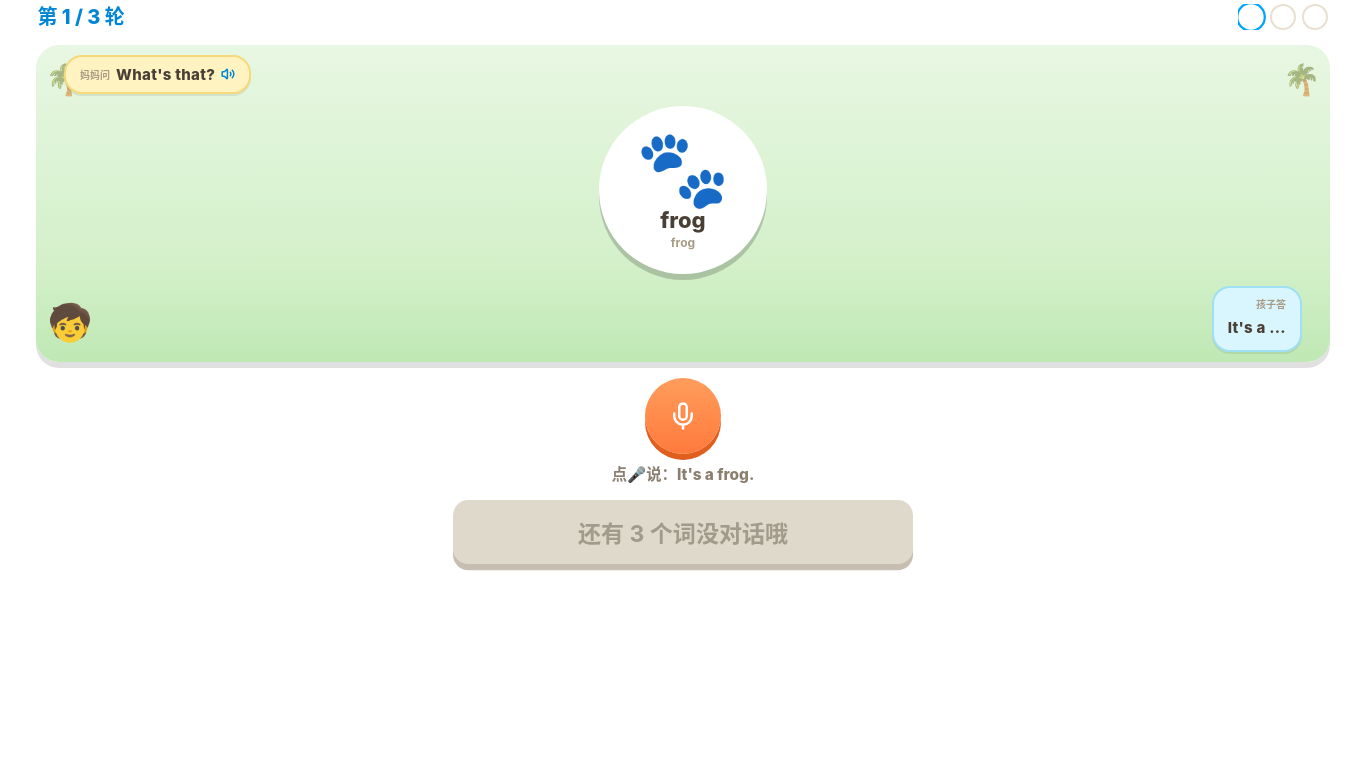
LearnStage dialog 亲子口语对话卡（l10）· 逐轮对话 + 录音 › 一轮录音通过后自动进入下一轮（下轮大图切换 + 自动播问句）
Click the button with class "mic-btn". click: coordinates (683, 416)
box: left=645, top=378, right=721, bottom=454
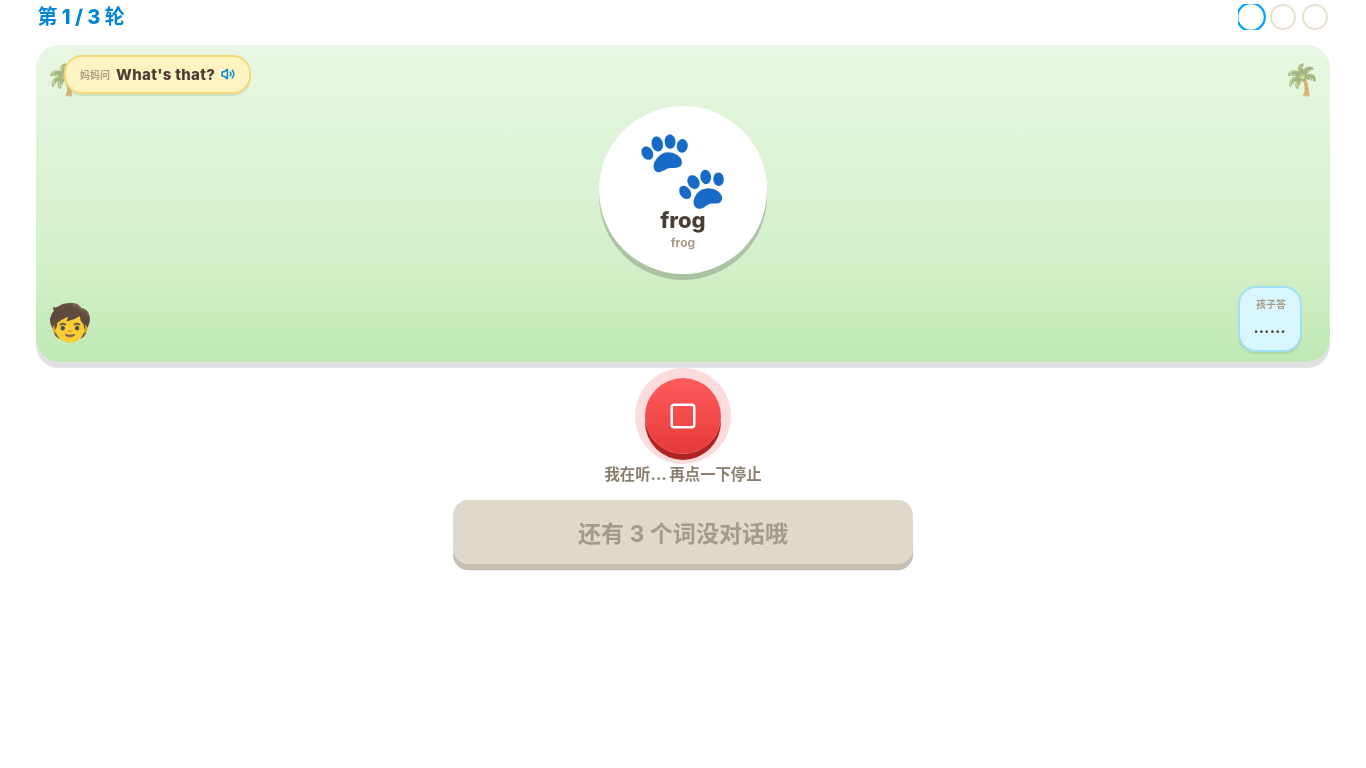
Click the button with class "mic-btn". click: coordinates (683, 416)
box: left=645, top=378, right=721, bottom=454
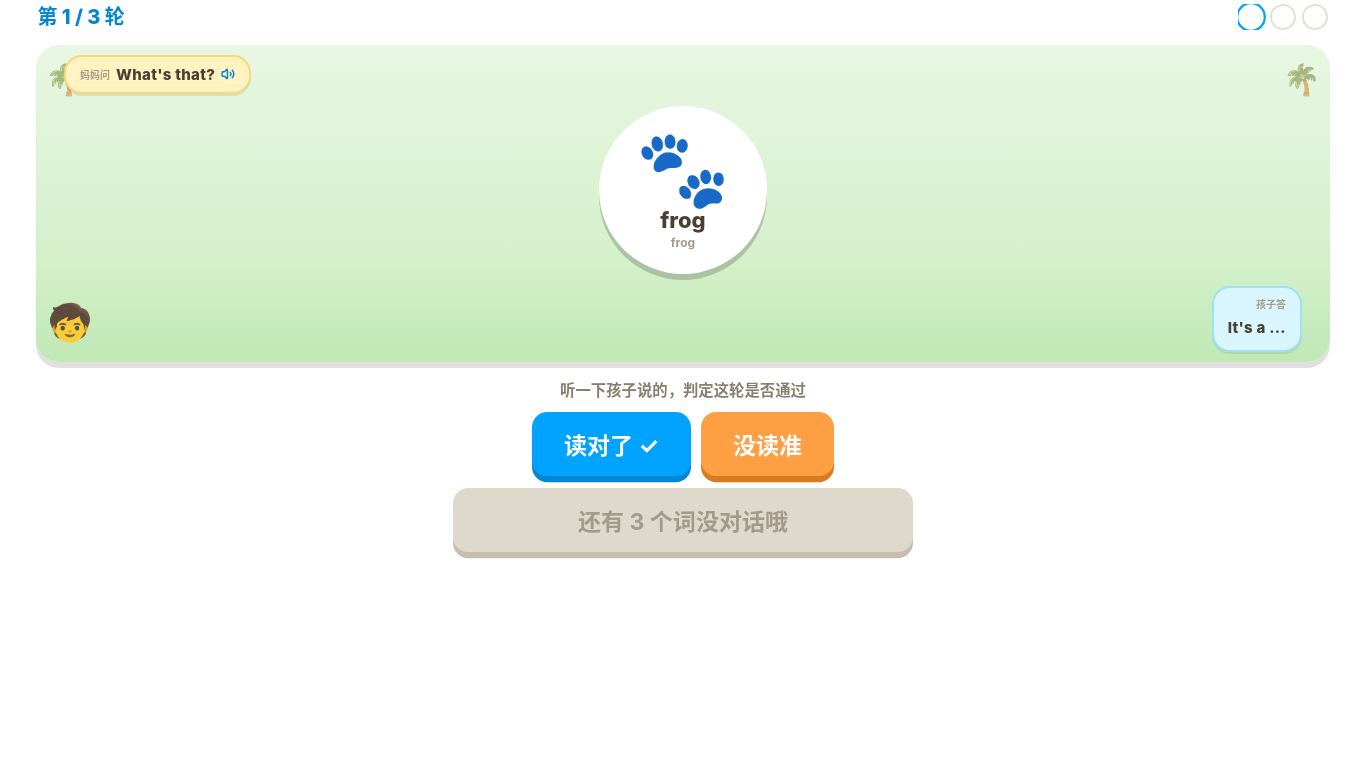
Click the button with class "k-btn-green" showing "读对了 ✓". click: coordinates (611, 444)
box: left=532, top=412, right=691, bottom=476
Wait 1400 ms
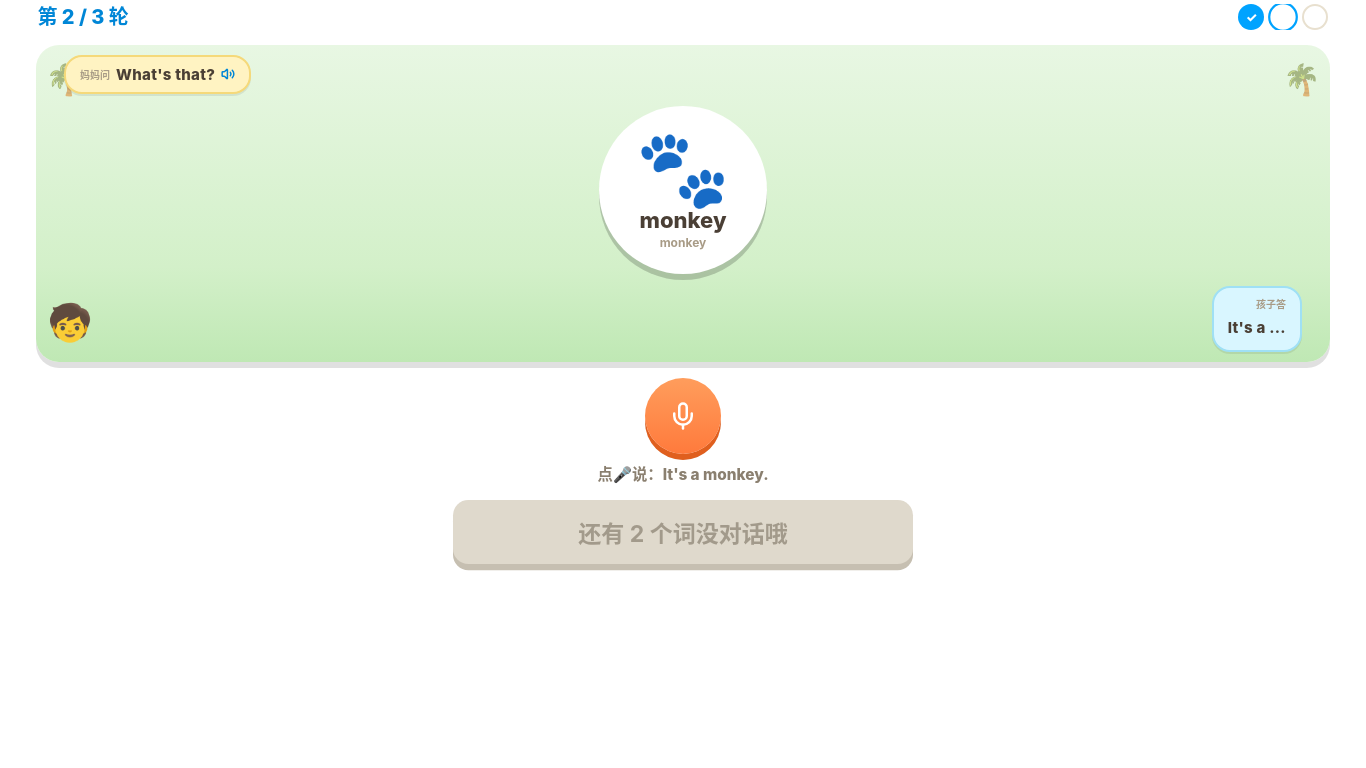
Result: the text with class "dlg-round" reads "第 2 / 3 轮" at left=38, top=5, right=129, bottom=29
Result: the text with class "dlg-en" reads "monkey" at left=640, top=207, right=726, bottom=233
